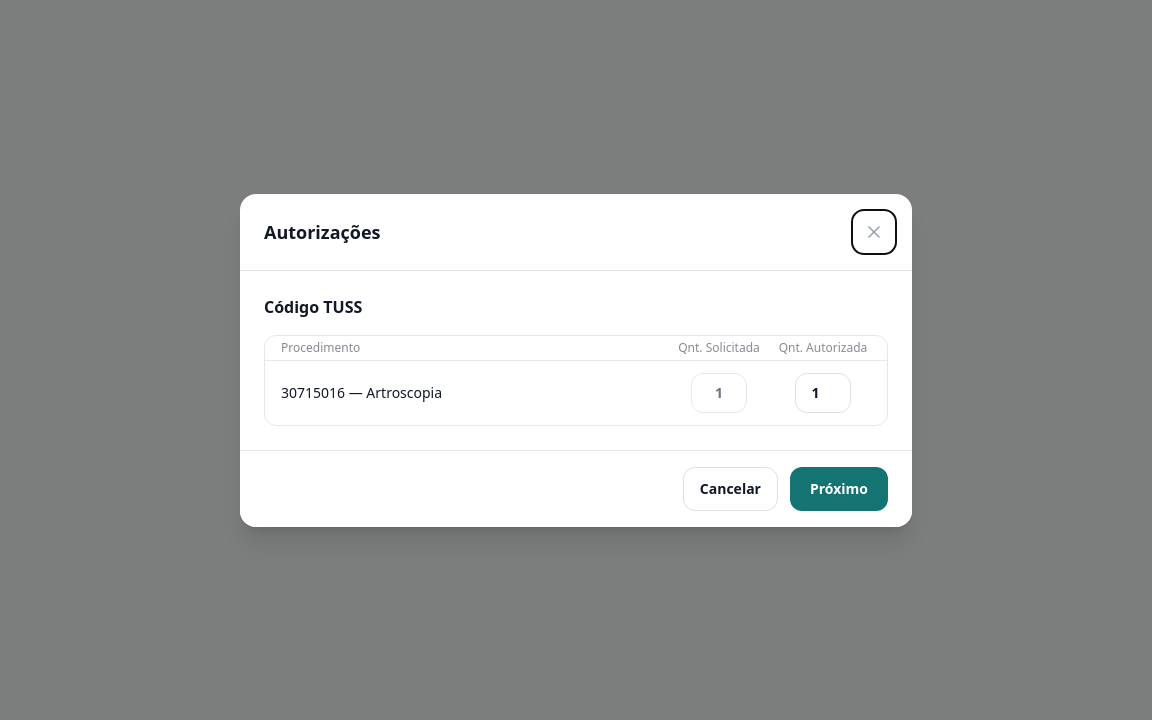
Scenario: UpdateAuthorizationsModal › fecha com Esc e reinicia na primeira etapa
Click the button "Próximo". click: (839, 488)
box: [790,466,888,510]
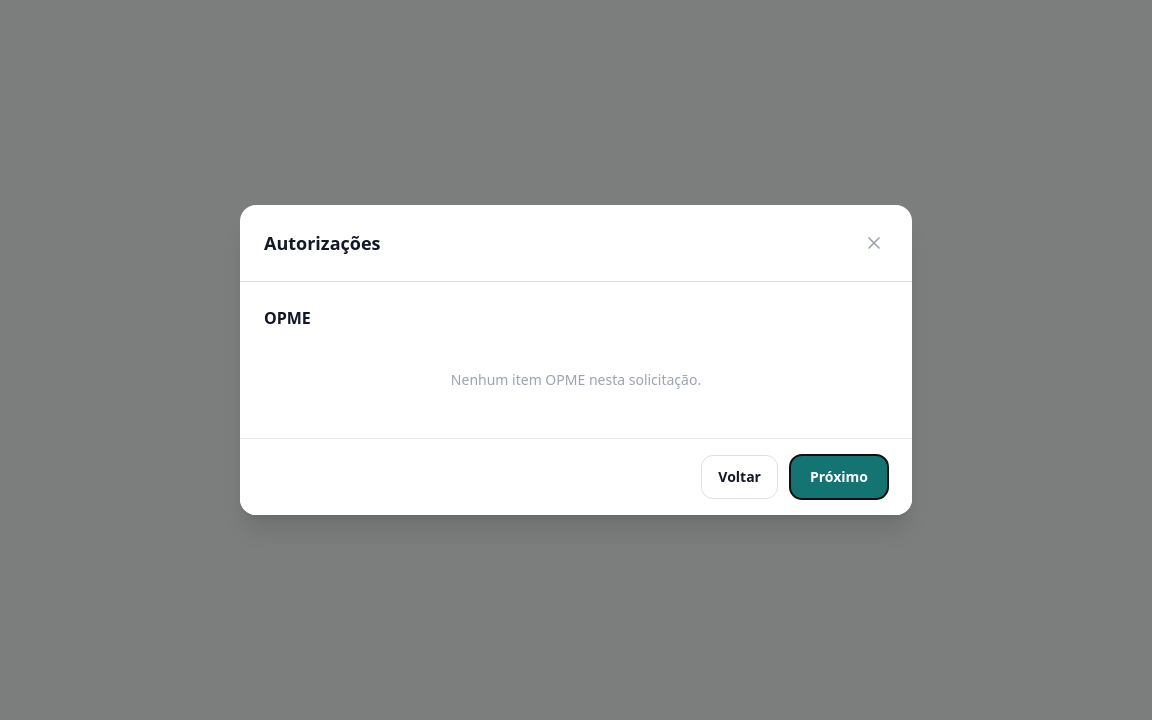
Press Escape
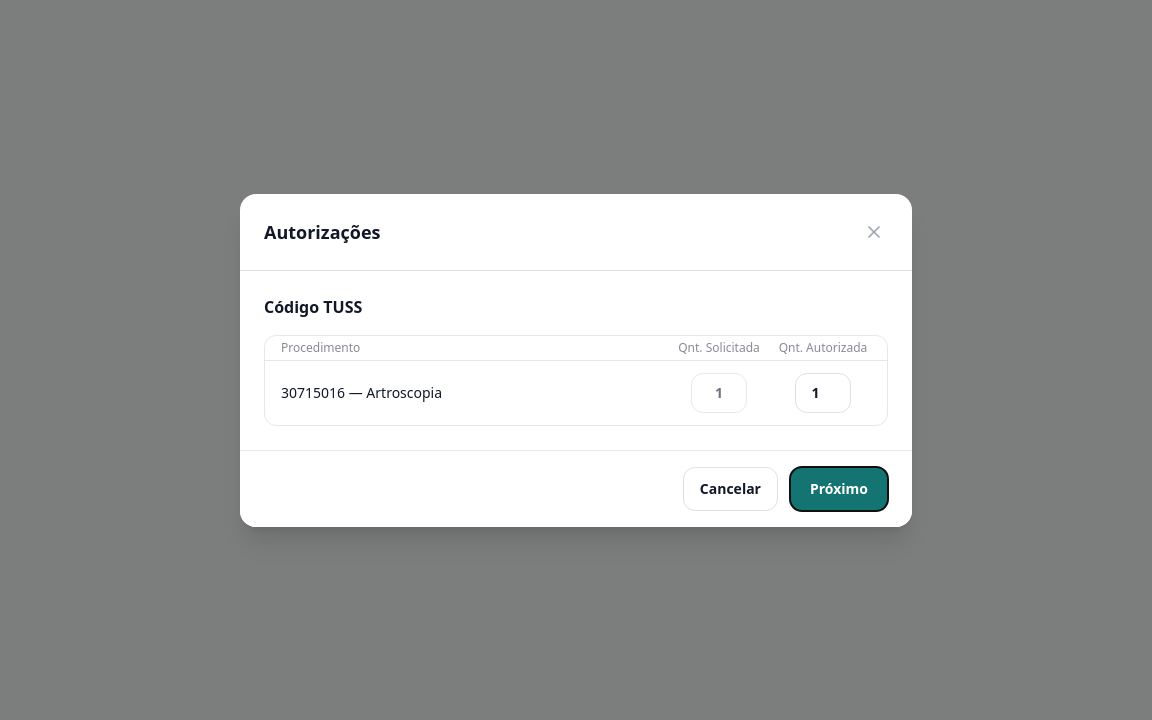
Expected: the dialog "Autorizações" is shown, [240,194,912,526]
Expected: the text "Código TUSS" is shown, [264,296,362,318]
